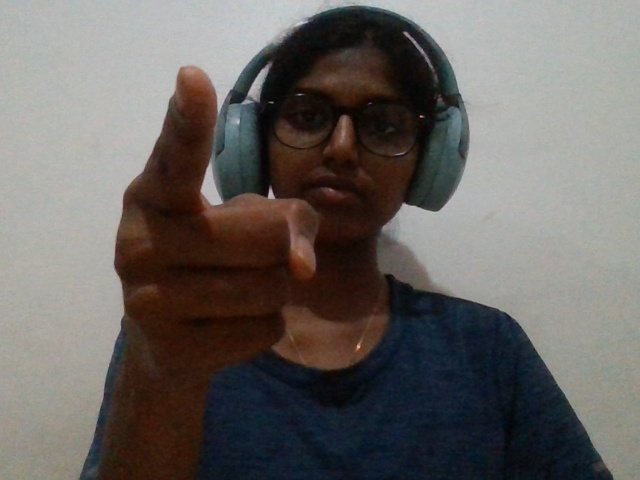You: (92, 50, 330, 392)
